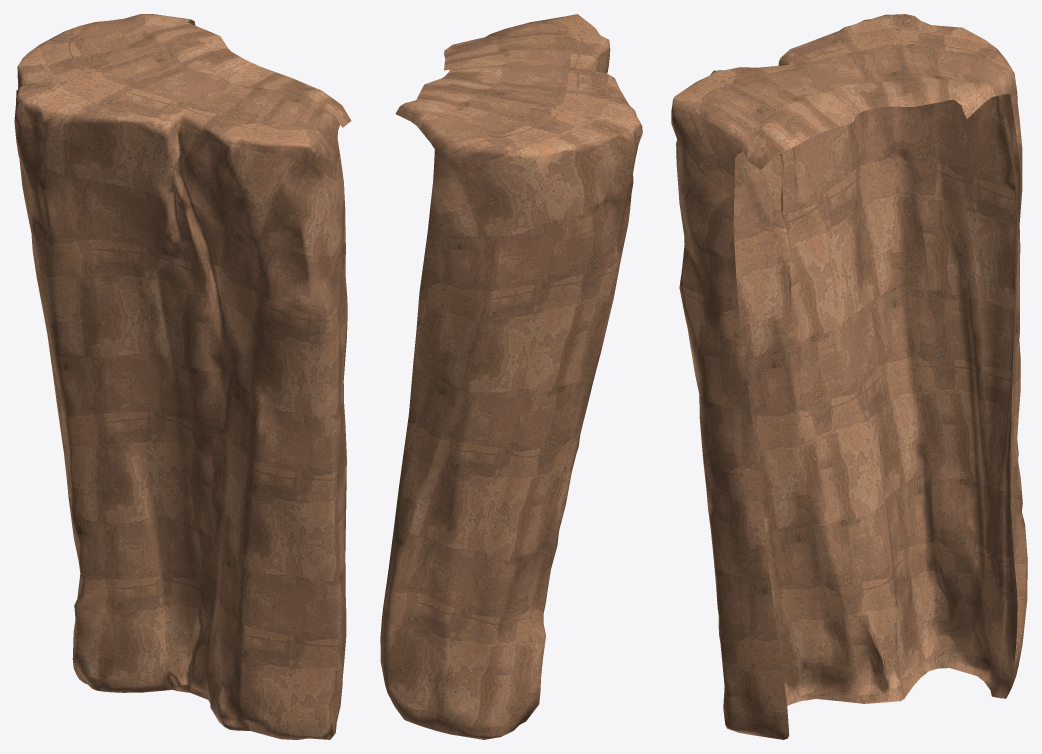
The model's file is Ob_RockCliff18.fbx.
The picture shows the model from 3 angles, left to right: view 1: azimuth 30°, elevation 25°; view 2: azimuth 150°, elevation 25°; view 3: azimuth 270°, elevation 25°; orthographic projection. The views are drawn at different scales.
Parts seen in each view (by area): view 1: Ob_RockCliff18; view 2: Ob_RockCliff18; view 3: Ob_RockCliff18.
Part boxes in pixels (box(x1,y1,x2,y2)): Ob_RockCliff18: box(14, 14, 351, 739); Ob_RockCliff18: box(380, 14, 642, 739); Ob_RockCliff18: box(671, 14, 1027, 739).
Size of the model in its own units: 21448 by 49947 by 25812.
